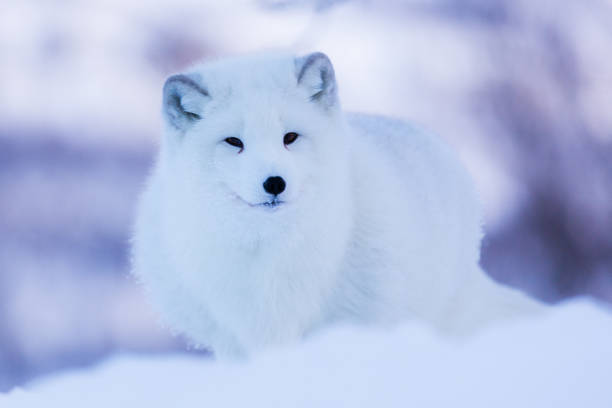arcticfox: (179, 82, 331, 224)
